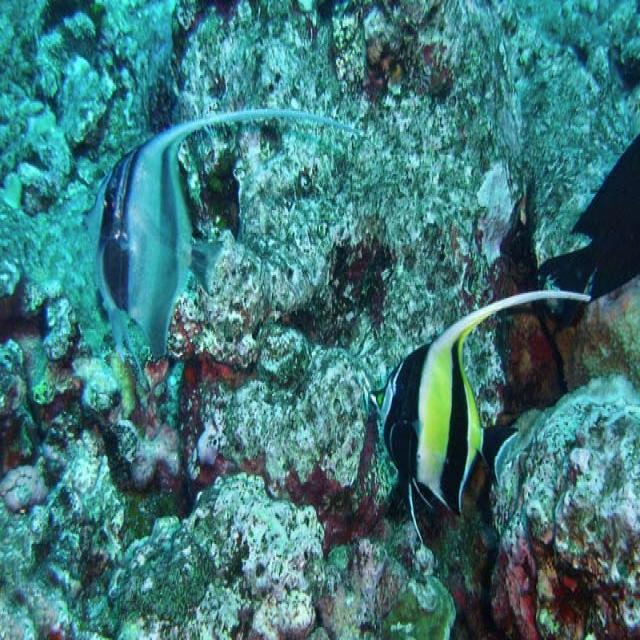MorishIdol: (367, 285, 592, 547)
